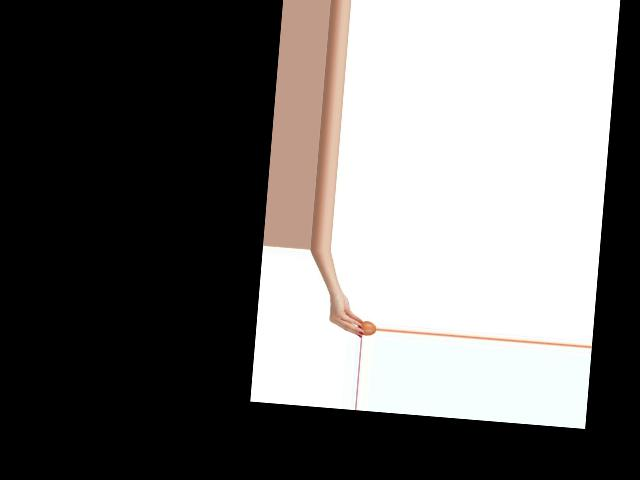egg: (357, 320, 376, 336)
